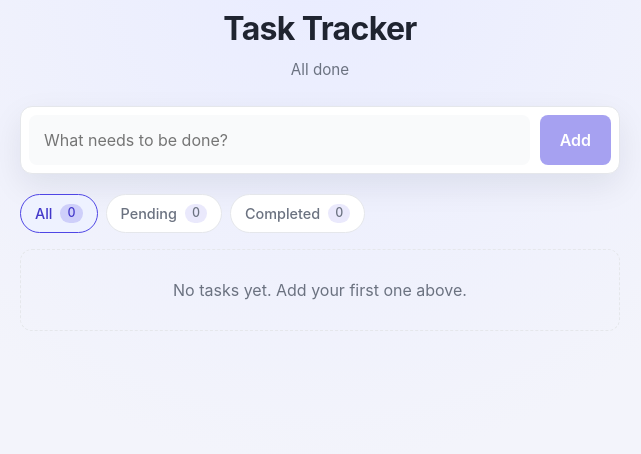
Scenario: Task Tracker › clears completed tasks
Step 1. Type "One" into the field named "New task" → (279, 140), box [29,115,530,165]
Then press Enter
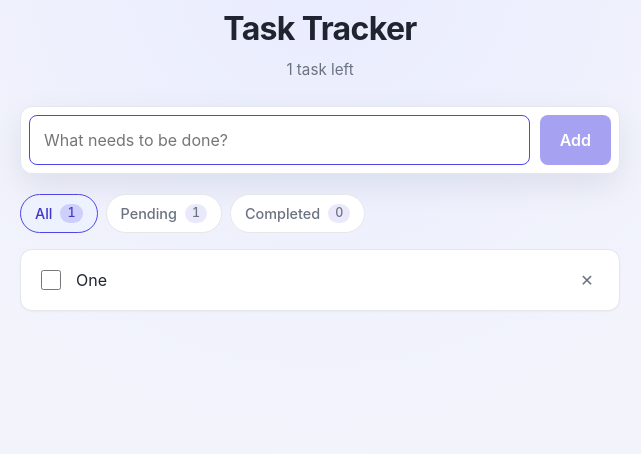
Step 2. Type "Two" into the field named "New task" → (279, 140), box [29,115,530,165]
Then press Enter
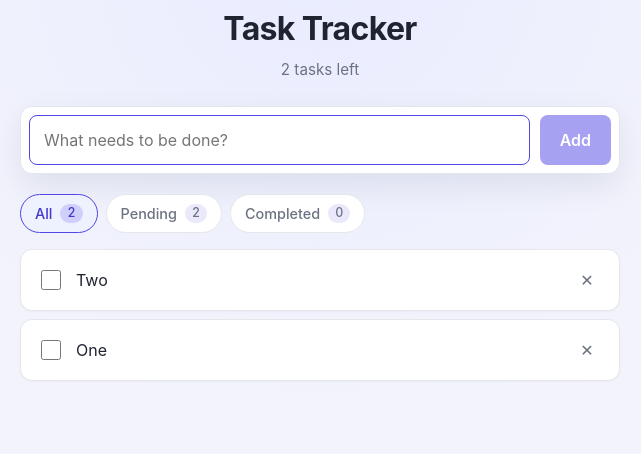
Step 3. Click the checkbox named "Mark \"One\" as completed" → (51, 350), box [41,340,61,360]
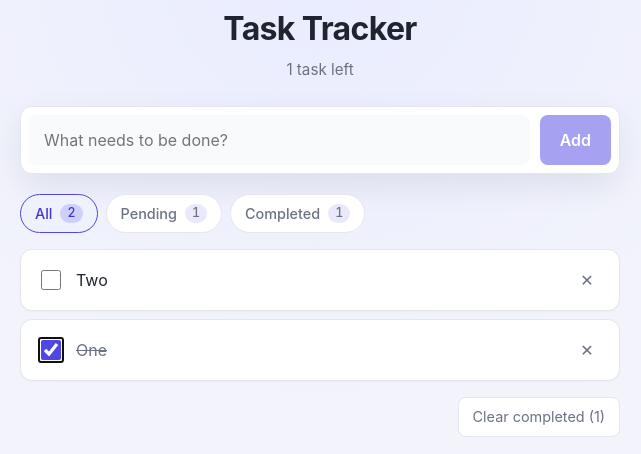
Step 4. Click the button "Clear completed (1)" → (539, 417), box [458,397,620,437]
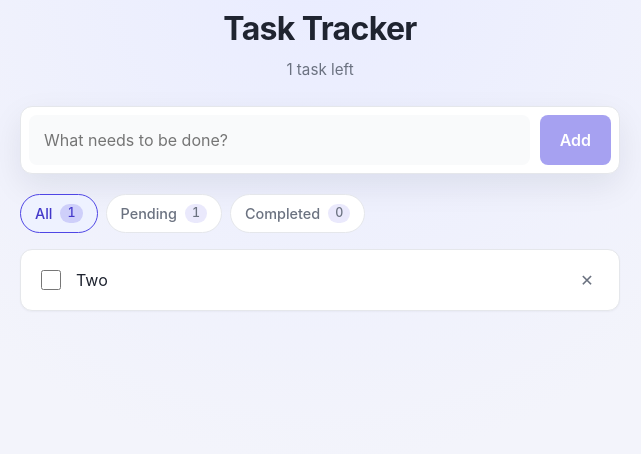
Expected: the button "Clear completed" is gone
